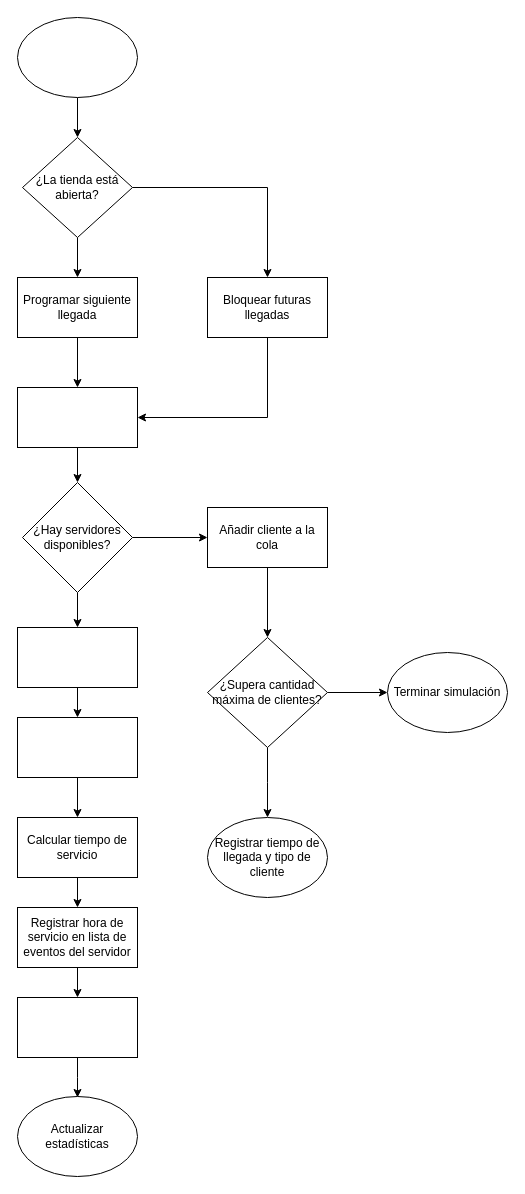
Some shapes in this 525 by 1194 pixel diagram are drawn without their labels. The box of each missing label's shape, as (x1, y1, x2, y2) in pixels:
arrive: (16, 16, 138, 98)
Calcular ventas: (16, 996, 138, 1058)
Identificar tipo de cliente: (16, 386, 138, 448)
Registrar cliente: (16, 626, 138, 688)
Registrar servidor seleccionado como ocupado: (16, 716, 138, 778)
